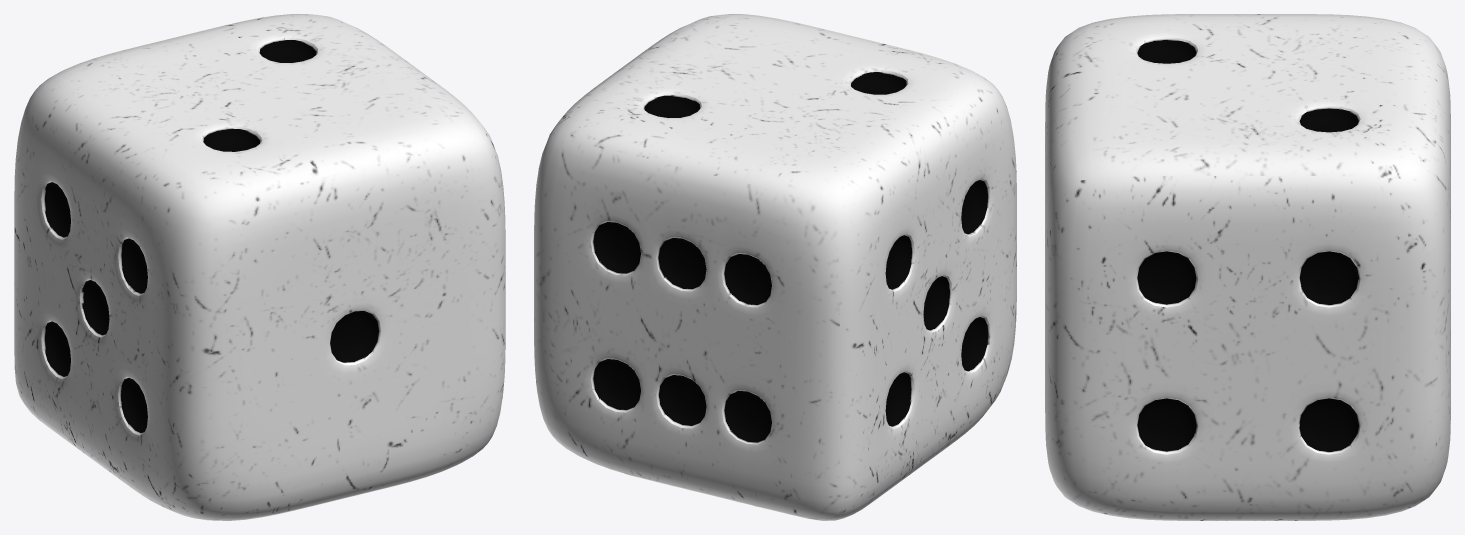
Rendered from Dice6.fbx.
3 renders of one model, left to right at view 1: azimuth 30°, elevation 25°; view 2: azimuth 150°, elevation 25°; view 3: azimuth 270°, elevation 25°, orthographic. The views are drawn at different scales.
Visible parts, largest first — view 1: DADO8cm_high_Baked; view 2: DADO8cm_high_Baked; view 3: DADO8cm_high_Baked.
Boxes of the visible parts, box(x1,y1,x2,y2) form: DADO8cm_high_Baked: box(14, 14, 505, 520); DADO8cm_high_Baked: box(534, 14, 1016, 520); DADO8cm_high_Baked: box(1045, 14, 1450, 520).
Size of the model in its own units: 8 by 8 by 8.
1 material, 1 textured.
